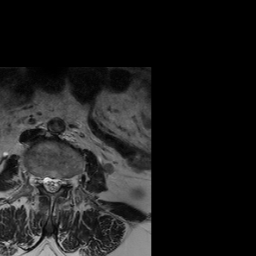CCS_normal: (47, 167, 54, 198)
LFS_normal: (61, 169, 69, 193)
LLS_normal: (54, 170, 61, 195)
RFS_normal: (34, 167, 41, 191)
RLS_normal: (41, 167, 47, 196)
